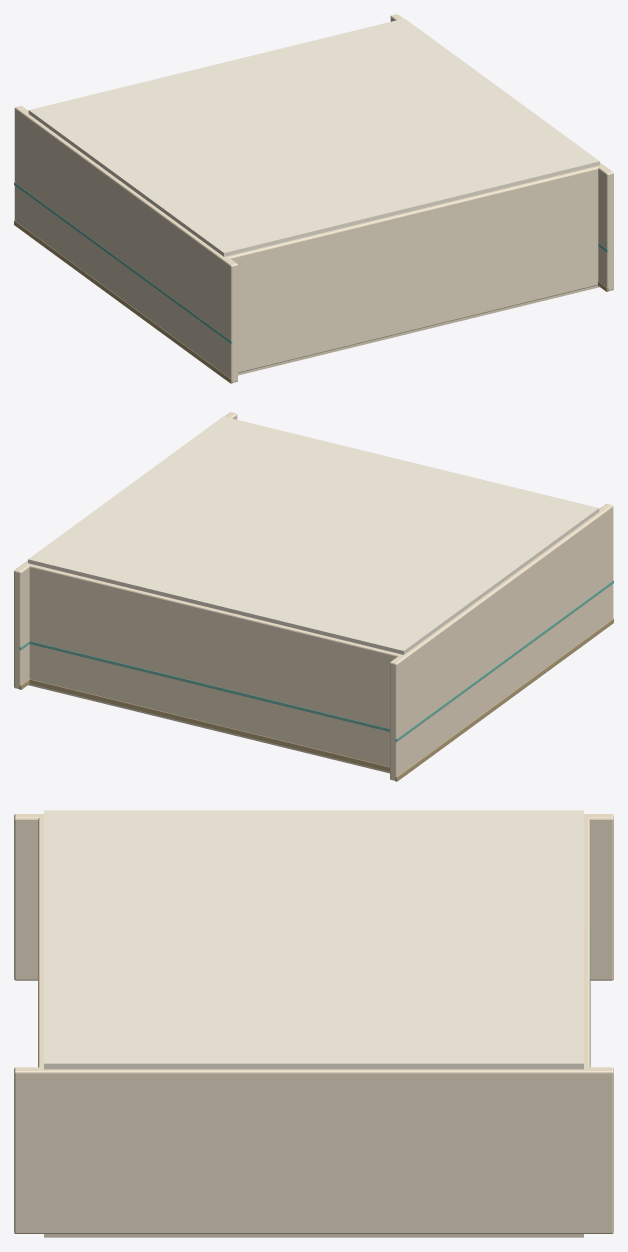
The model's file is Kitchen_World.fbx.
3 views of the same model, one above another, from view 1: azimuth 30°, elevation 25°; view 2: azimuth 150°, elevation 25°; view 3: azimuth 270°, elevation 25° (orthographic). The views are drawn at different scales.
Parts seen in each view (by area): view 1: Ceiling.001, Wall.004, Wall.002, Wall.003, Floor.001; view 2: Ceiling.001, Wall.001, Wall.002, Wall.003, Floor.001; view 3: Ceiling.001, Wall.003, Wall.002, Floor.001, Wall.001, Wall.004.
Boxes of the visible parts, left/top/right/bottom form: Ceiling.001: left=28, top=18, right=599, bottom=256; Wall.004: left=225, top=166, right=599, bottom=372; Wall.002: left=14, top=106, right=237, bottom=383; Wall.003: left=390, top=14, right=613, bottom=291; Floor.001: left=36, top=241, right=599, bottom=375; Ceiling.001: left=28, top=416, right=599, bottom=654; Wall.001: left=28, top=563, right=402, bottom=771; Wall.002: left=390, top=504, right=613, bottom=781; Wall.003: left=14, top=412, right=237, bottom=689; Floor.001: left=28, top=639, right=591, bottom=773; Ceiling.001: left=44, top=810, right=583, bottom=1069; Wall.003: left=14, top=1067, right=613, bottom=1233; Wall.002: left=14, top=814, right=613, bottom=980; Floor.001: left=44, top=1234, right=583, bottom=1237; Wall.001: left=584, top=816, right=590, bottom=1068; Wall.004: left=38, top=816, right=43, bottom=1067.
Size of the model in its own units: 10.21 by 3.2 by 10.
